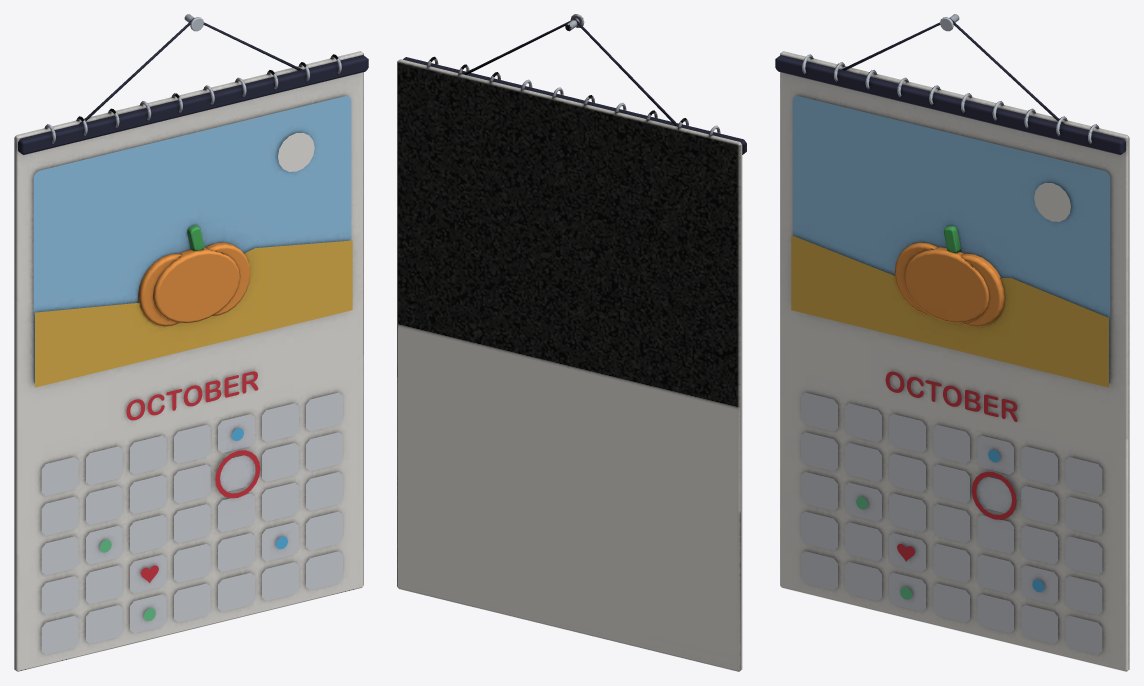
File: calendar_wall.glb
The picture shows the model from 3 angles, left to right: view 1: azimuth 30°, elevation 25°; view 2: azimuth 150°, elevation 25°; view 3: azimuth 330°, elevation 25°; orthographic projection.
Visible parts, largest first — view 1: calendar_wall; view 2: calendar_wall; view 3: calendar_wall.
Part boxes in pixels (<box>): calendar_wall: <box>14,14,368,671</box>; calendar_wall: <box>397,14,746,671</box>; calendar_wall: <box>775,14,1129,671</box>.
Bounding box in the file's own units: 0.34 × 0.5765 × 0.0186.
Materials: 11 (11 with a texture image).
